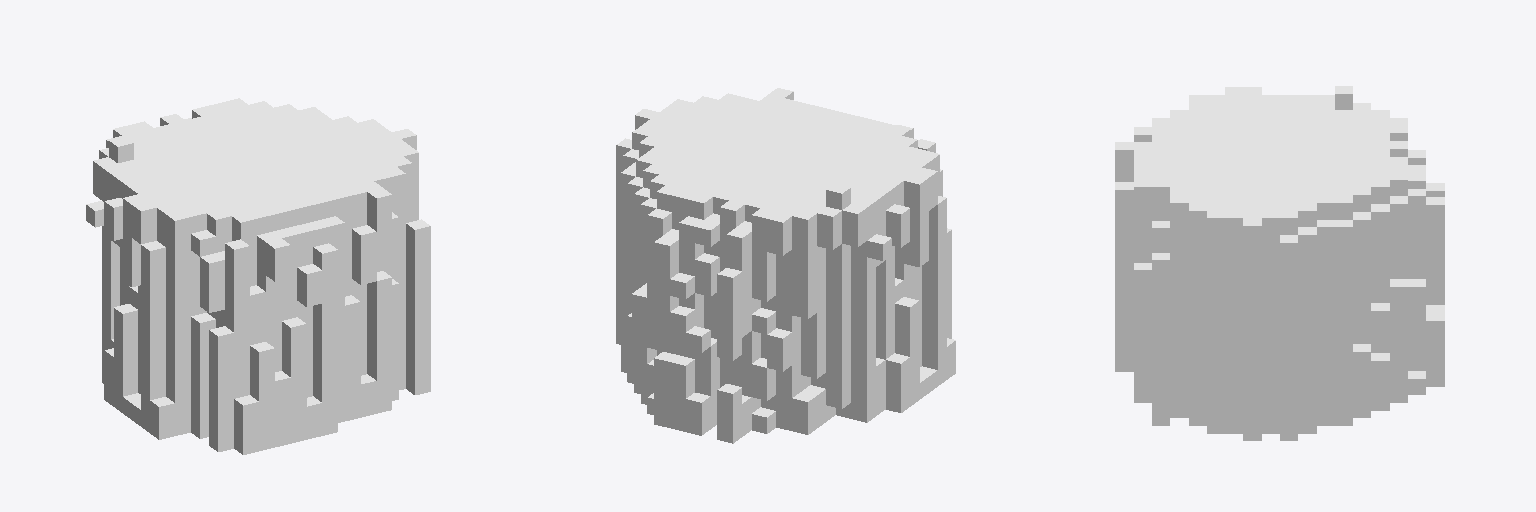
File: Stumps-0-Stump1.obj
3 views of the same model, side by side, from view 1: azimuth 30°, elevation 25°; view 2: azimuth 150°, elevation 25°; view 3: azimuth 270°, elevation 25° (orthographic).
Parts seen in each view (by area): view 1: Stump1; view 2: Stump1; view 3: Stump1.
Part boxes in pixels (left/top/right/bottom): Stump1: left=86, top=98, right=430, bottom=454; Stump1: left=616, top=88, right=955, bottom=443; Stump1: left=1115, top=86, right=1444, bottom=440.
Bounding box in the file's own units: 1.8 × 1.4 × 1.8.